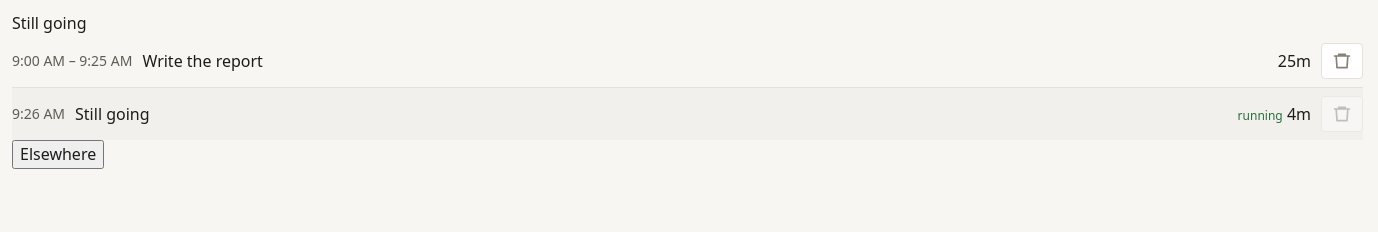
Test: SessionLog › edits the running row through the timer, so the bar shows the edit too
The width and height of the screenshot is (1378, 232).
Click the button "Still going".
click(112, 114)  # box top-left (69, 97), bottom-right (1234, 132)
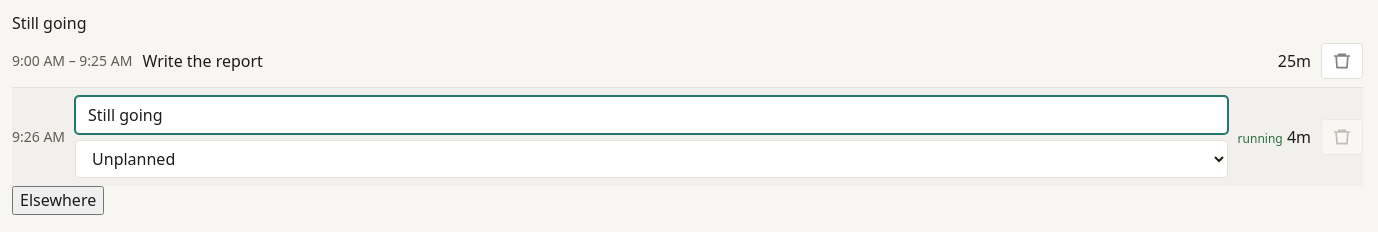
Replace the text in the field named "Session label" with "Renamed" at (651, 115), box top-left (75, 96), bottom-right (1228, 134)
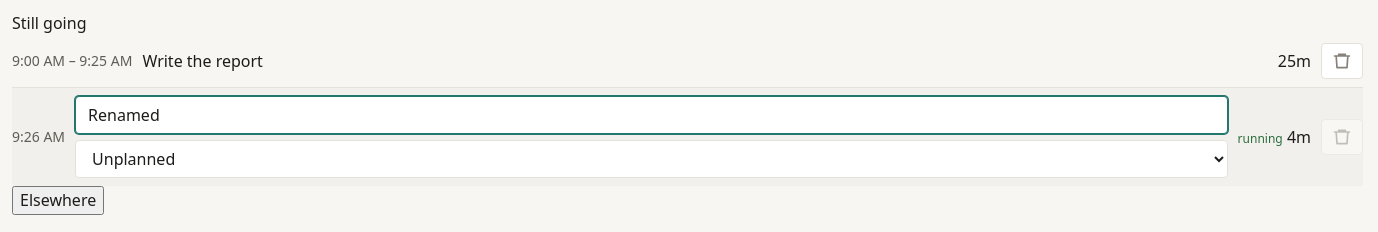
Press Enter in the field named "Session label", box top-left (75, 96), bottom-right (1228, 134)
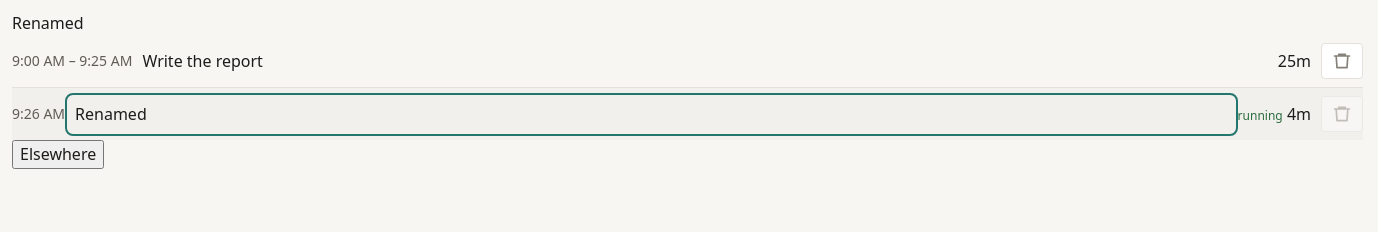
Expected: the button "Renamed" is shown, top-left (69, 97), bottom-right (1234, 132)
Expected: the text named "Running bar" reads "Renamed", top-left (12, 12), bottom-right (84, 34)
